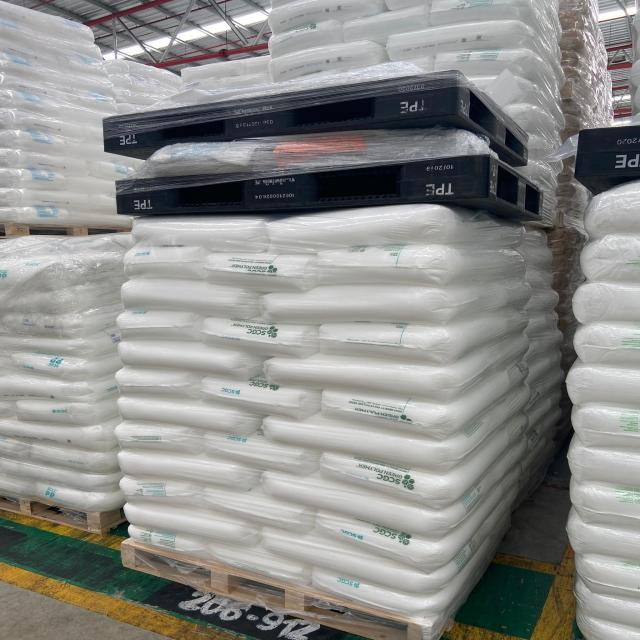gunny_bag: (265, 473, 467, 541), (266, 530, 460, 593), (261, 421, 466, 475), (267, 203, 455, 253), (264, 356, 464, 402), (315, 511, 462, 573), (319, 454, 466, 512), (312, 569, 459, 620), (267, 287, 468, 324), (321, 392, 463, 443), (122, 503, 263, 547), (320, 246, 465, 286), (114, 399, 262, 438), (323, 325, 466, 365), (118, 342, 262, 381), (117, 451, 260, 490), (122, 281, 263, 320), (131, 217, 269, 252), (201, 491, 312, 534), (201, 377, 319, 416), (204, 435, 319, 475), (203, 320, 321, 358), (209, 541, 309, 584), (213, 255, 322, 292), (113, 424, 204, 456), (114, 369, 203, 401), (124, 248, 211, 279), (117, 313, 204, 340), (129, 529, 207, 556), (118, 481, 199, 506)
